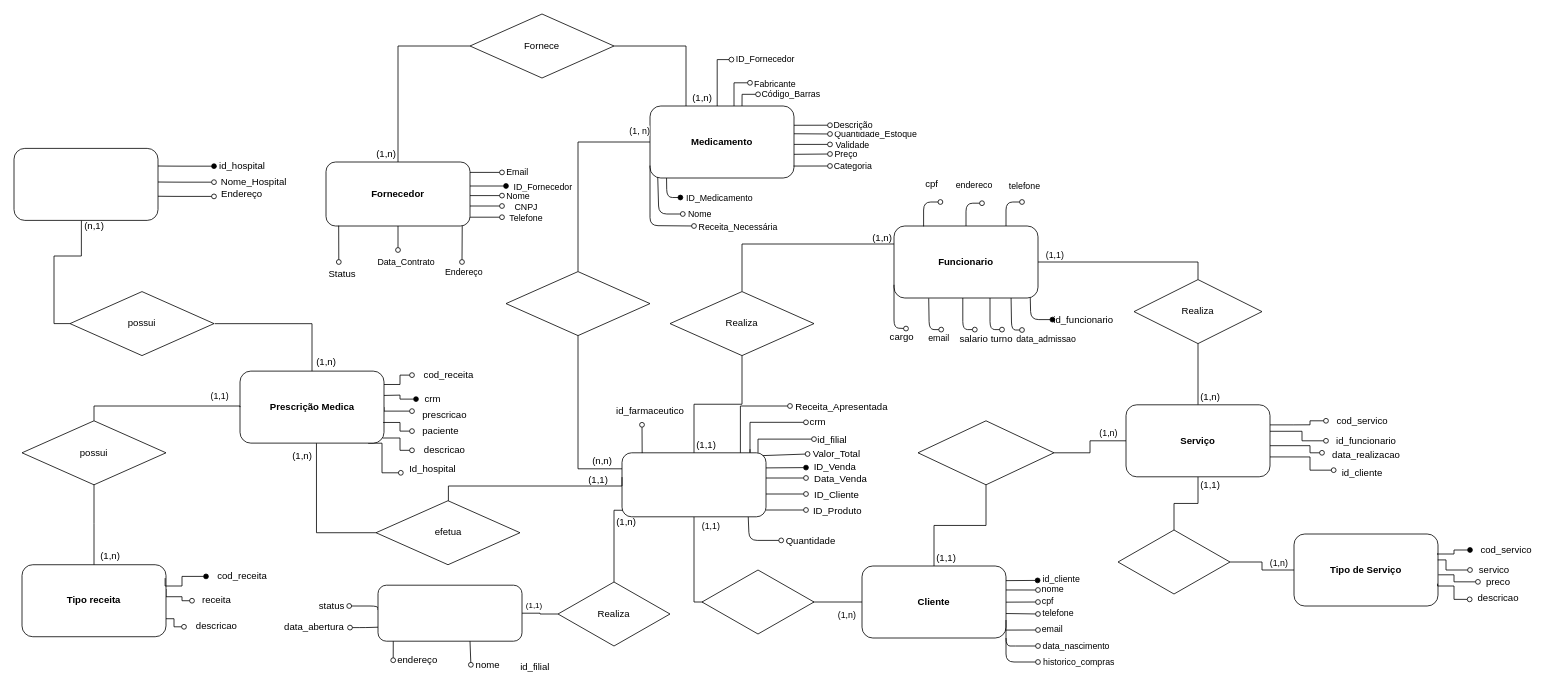
Some shapes in this 1556 by 693 pixel diagram are drawn without their labels. The centre of each missing label's shape, as x and y in pixels:
"Compra" goes at [985,452].
"Consulta" goes at [1173,561].
"Faz" goes at [757,601].
"Filial" goes at [449,612].
"Hospital" goes at [85,184].
"Venda" goes at [693,484].
"Vendido" goes at [577,303].
